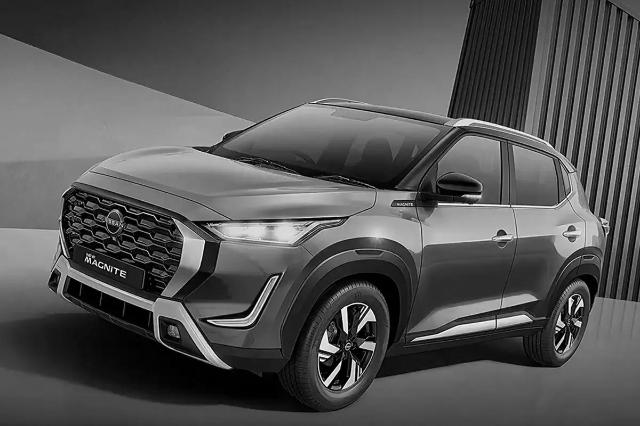suv: (53, 83, 622, 421)
